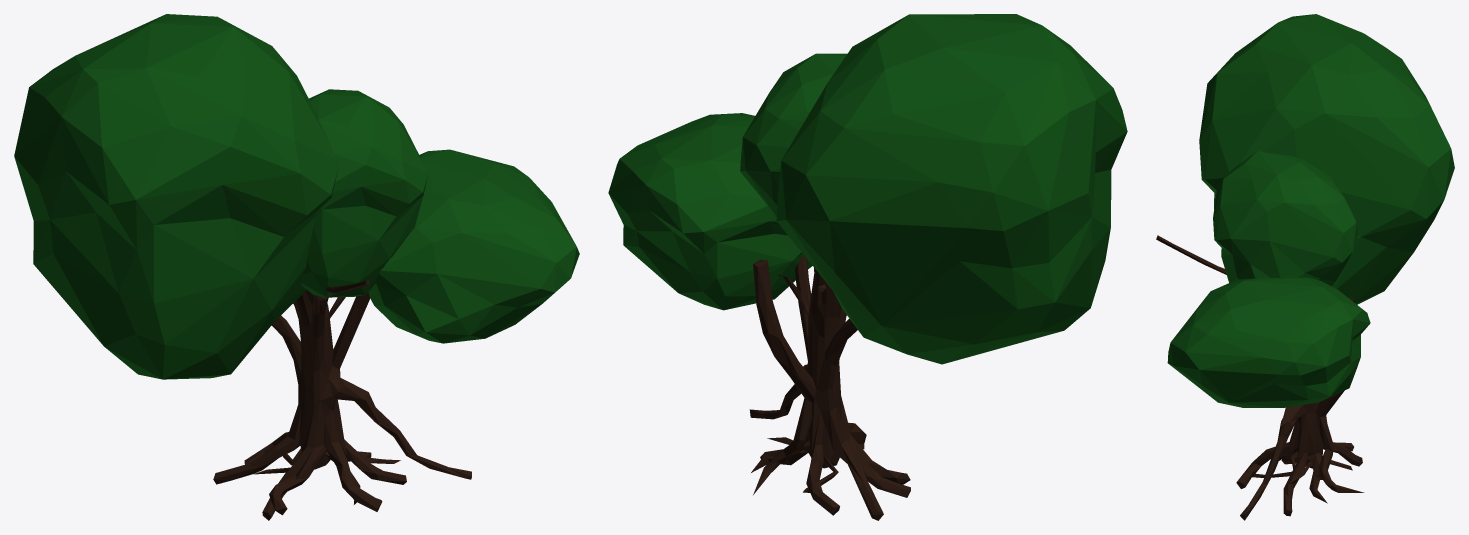
File: SM_tree_11.fbx
3 views of the same model, side by side, from view 1: azimuth 30°, elevation 25°; view 2: azimuth 150°, elevation 25°; view 3: azimuth 270°, elevation 25° (orthographic). The views are drawn at different scales.
Visible parts, largest first — view 1: tree_11; view 2: tree_11; view 3: tree_11.
Part boxes in pixels (left/top/right/bottom): tree_11: left=14, top=14, right=579, bottom=520; tree_11: left=608, top=14, right=1127, bottom=520; tree_11: left=1156, top=14, right=1454, bottom=520.
Bounding box in the file's own units: 977 × 948 × 655.
